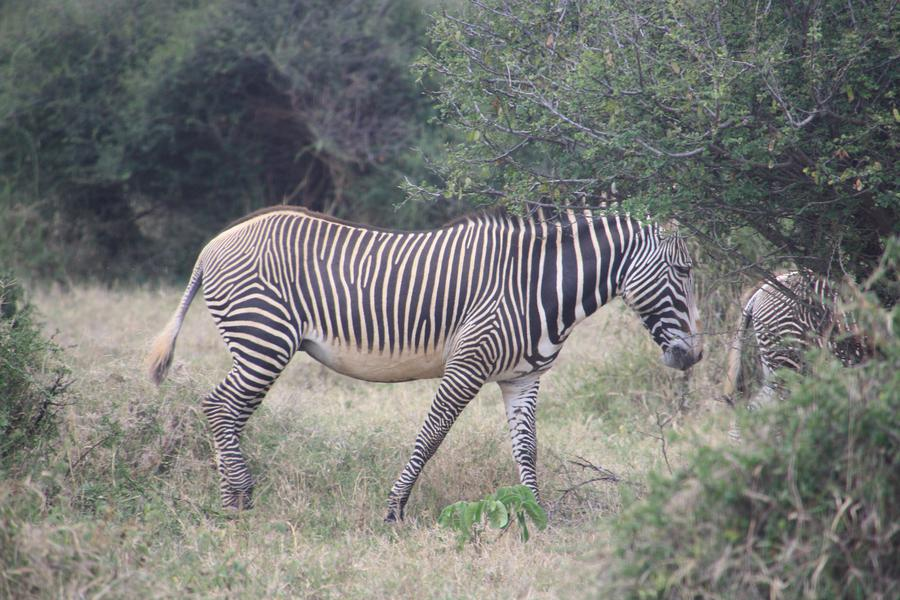zebra_grevys: (194, 191, 537, 376)
